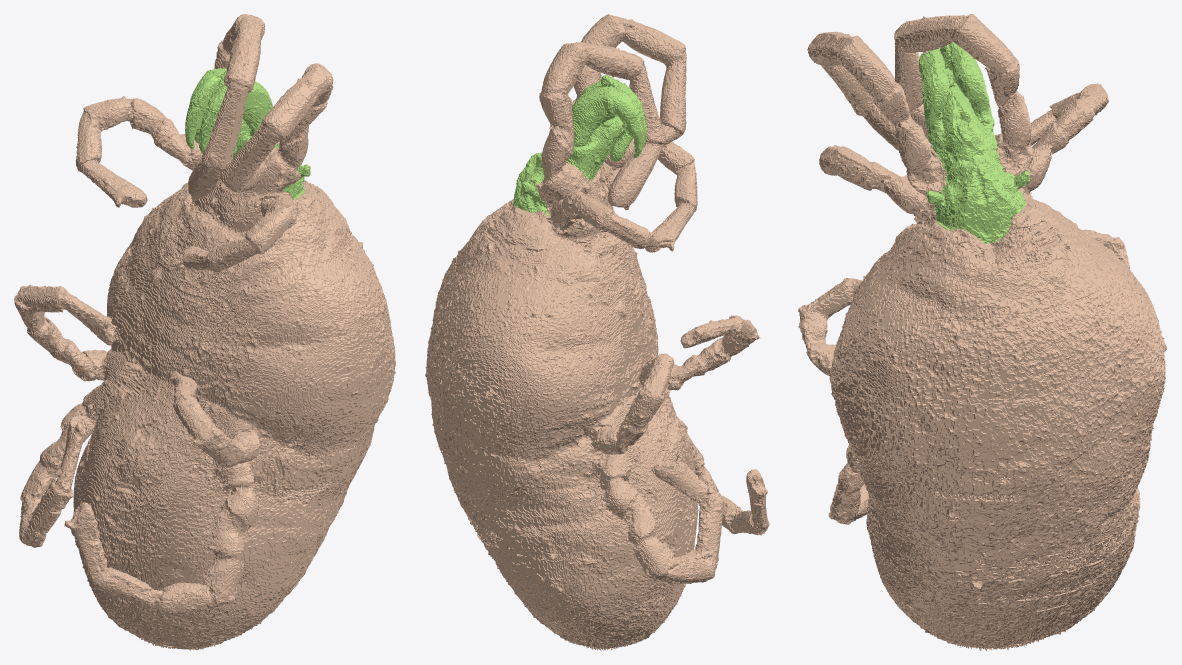
File: 60Trombidiidae.glb
The picture shows the model from 3 angles, left to right: view 1: azimuth 30°, elevation 25°; view 2: azimuth 150°, elevation 25°; view 3: azimuth 270°, elevation 25°; orthographic projection. The views are drawn at different scales.
Visible parts, largest first — view 1: 60-Trombidiidae_idiosoma_dec_075, 60-Trombidiidae_gnathosoma_dec_075; view 2: 60-Trombidiidae_idiosoma_dec_075, 60-Trombidiidae_gnathosoma_dec_075; view 3: 60-Trombidiidae_idiosoma_dec_075, 60-Trombidiidae_gnathosoma_dec_075.
Part boxes in pixels (bbox=[...]): 60-Trombidiidae_idiosoma_dec_075: bbox=[14, 14, 396, 650]; 60-Trombidiidae_gnathosoma_dec_075: bbox=[185, 68, 310, 199]; 60-Trombidiidae_idiosoma_dec_075: bbox=[425, 14, 769, 650]; 60-Trombidiidae_gnathosoma_dec_075: bbox=[513, 75, 647, 215]; 60-Trombidiidae_idiosoma_dec_075: bbox=[798, 14, 1167, 650]; 60-Trombidiidae_gnathosoma_dec_075: bbox=[919, 42, 1029, 243].
Bounding box in the file's own units: 2.45 × 4.54 × 2.31.
